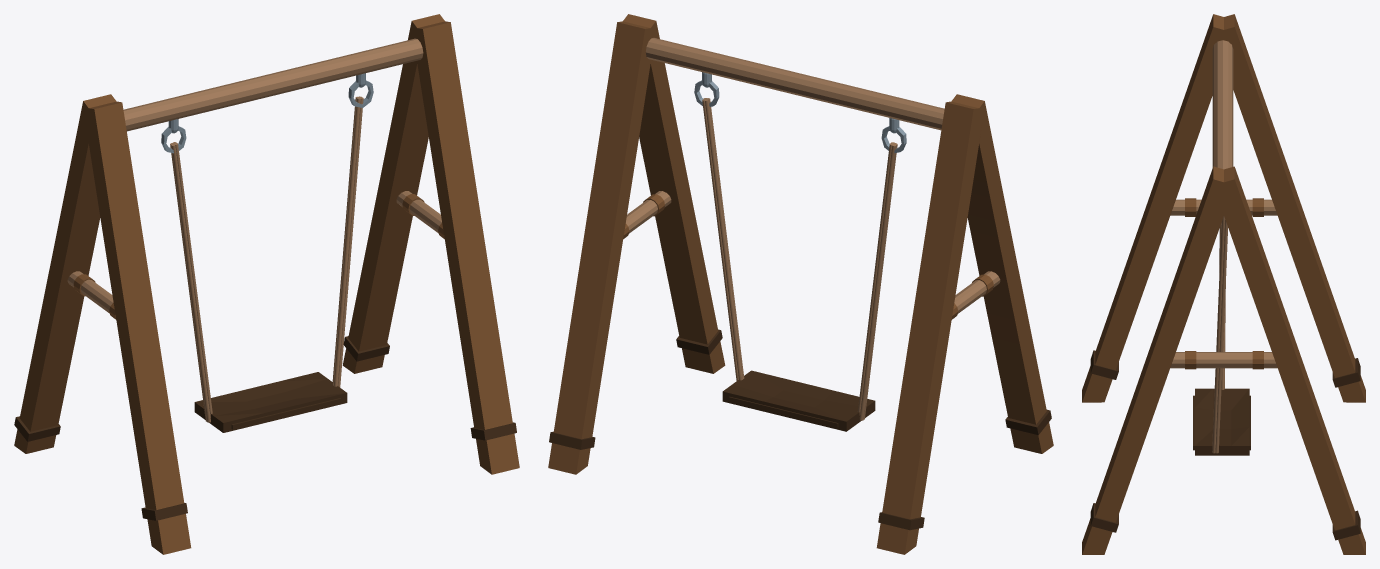
Rendered from CUPIC_SWING.obj.
3 renders of one model, left to right at view 1: azimuth 30°, elevation 25°; view 2: azimuth 150°, elevation 25°; view 3: azimuth 270°, elevation 25°, orthographic. The views are drawn at different scales.
Size of the model in its own units: 184 by 192 by 132.
1 material, 1 textured.
